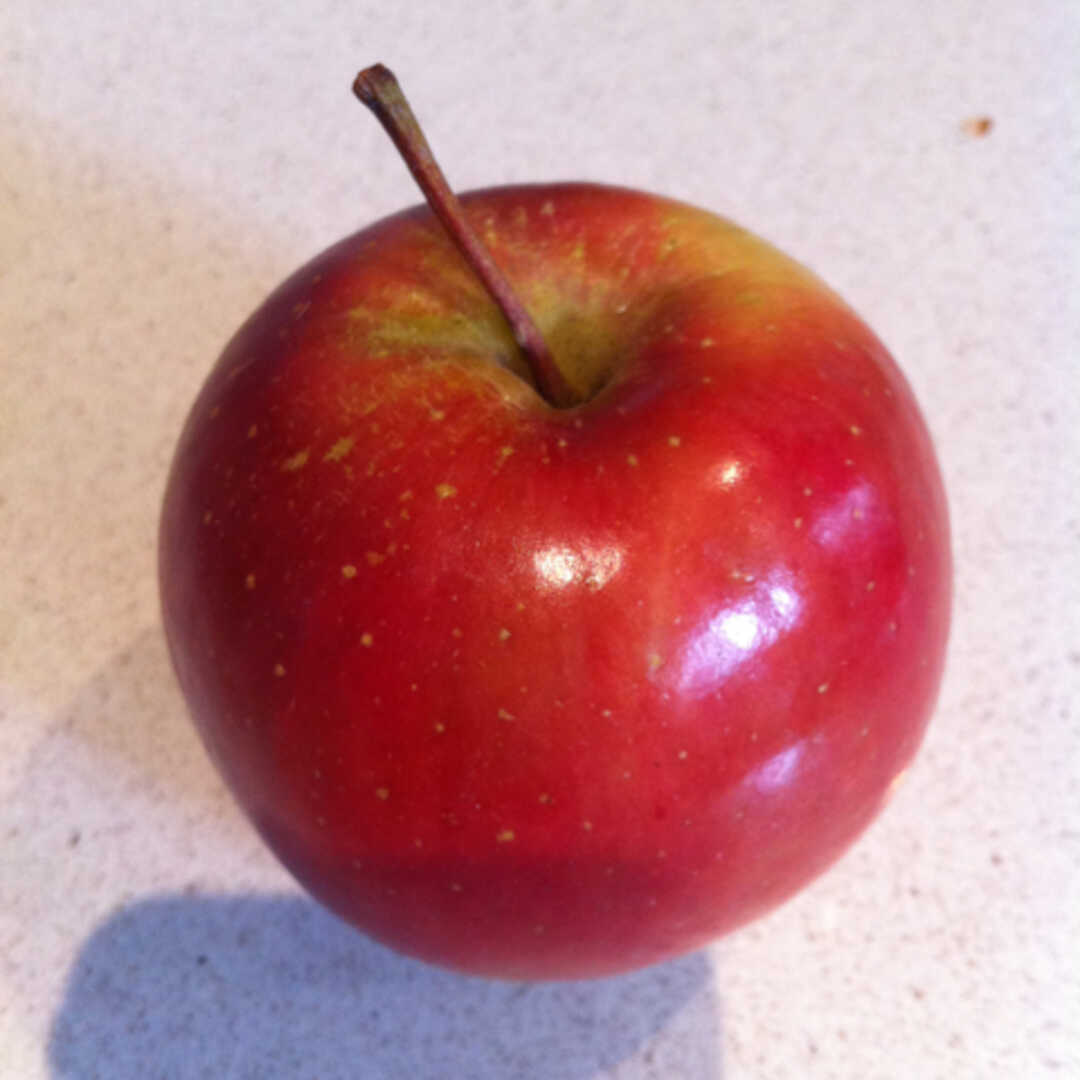apple: (152, 60, 956, 987)
